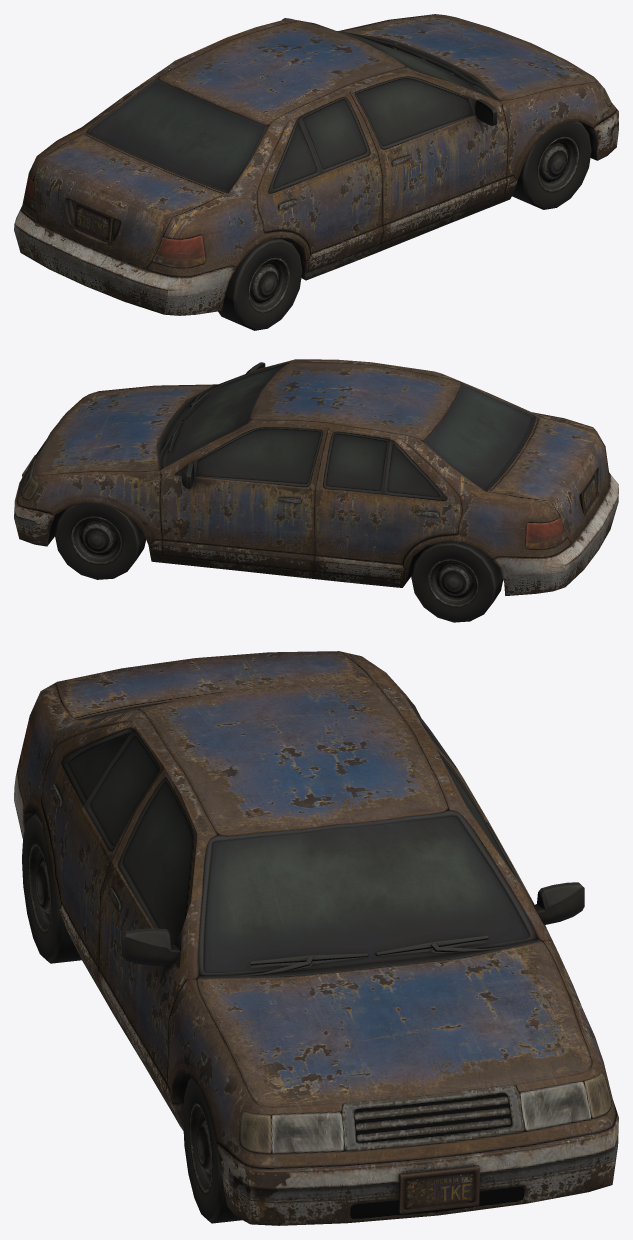
Rendered from Rust in ground.fbx.
3 renders of one model, top to bottom at view 1: azimuth 30°, elevation 25°; view 2: azimuth 150°, elevation 25°; view 3: azimuth 270°, elevation 25°, orthographic. The views are drawn at different scales.
Visible parts, largest first — view 1: 003; view 2: 003; view 3: 003.
Part boxes in pixels (x1=…): 003: x1=14, y1=14, x2=618, y2=330; 003: x1=14, y1=359, x2=618, y2=622; 003: x1=14, y1=651, x2=618, y2=1225.
Bounding box in the file's own units: 702 × 215 × 410.
